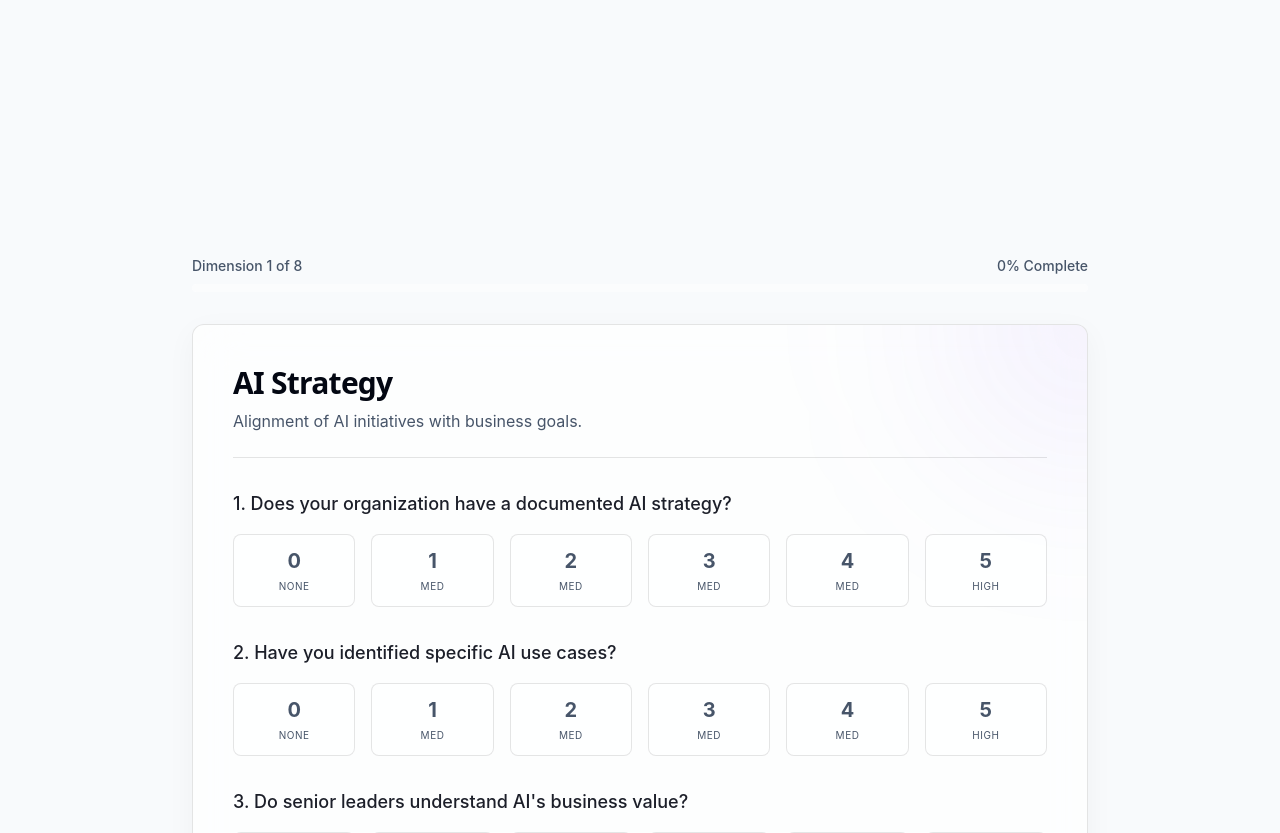
ReadinessAssessment › advances to the next dimension after answering every question and clicking "Next Dimension"
The width and height of the screenshot is (1280, 833).
What coordinates should you click on to do the following:
click the 1st button "3 Med"
I would click on:
 (709, 570)
Its box is [648,534,770,607].
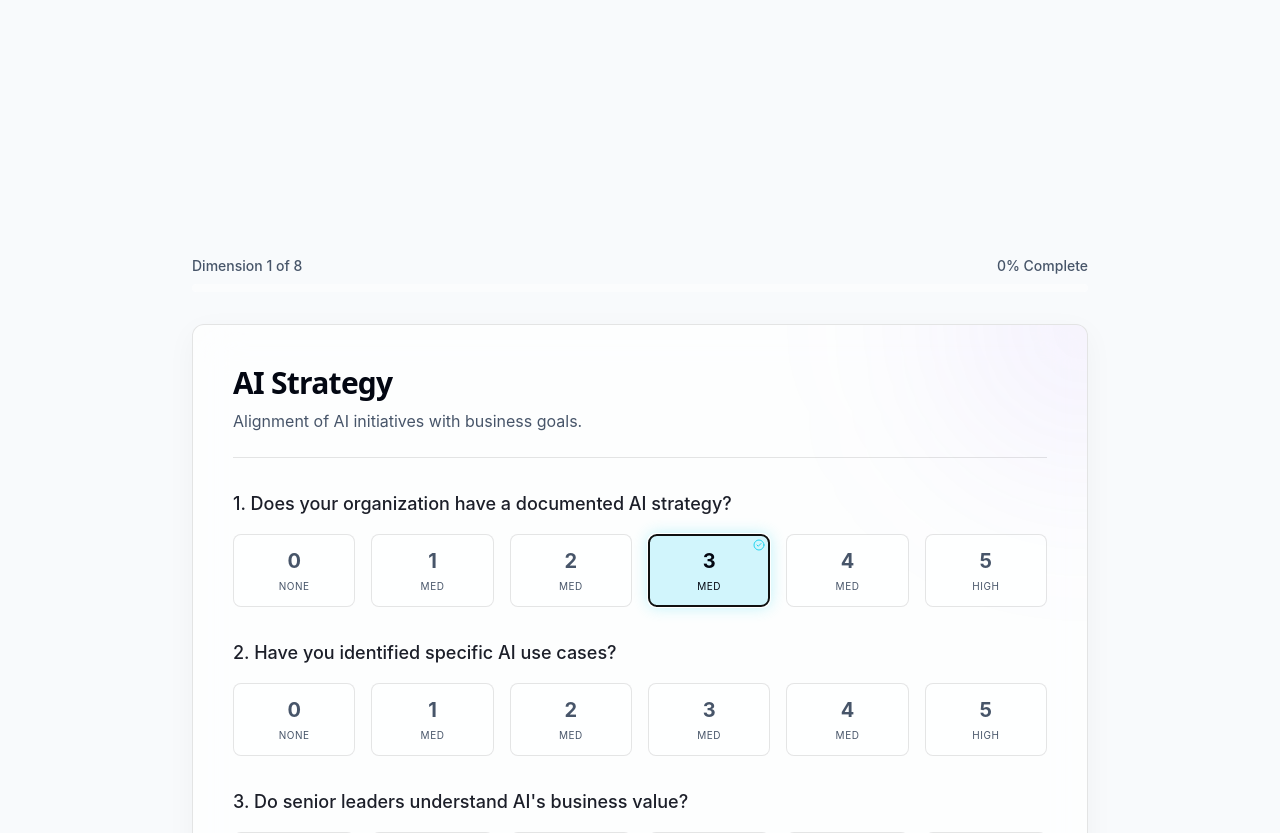
What coordinates should you click on to do the following:
click the 2nd button "3 Med"
I would click on:
 (709, 720)
Its box is [648,683,770,756].
(page scrolled)
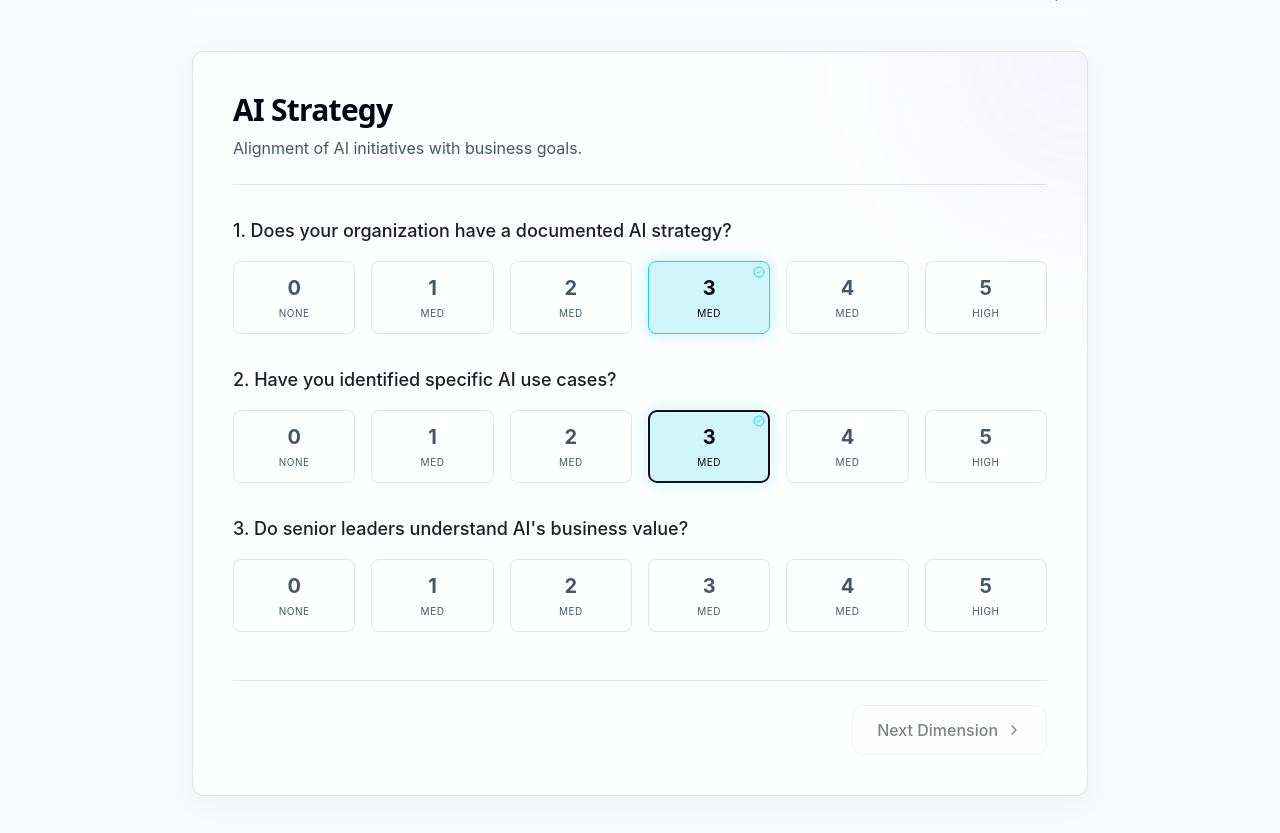
What coordinates should you click on to do the following:
click the 3rd button "3 Med"
I would click on:
 (709, 596)
Its box is [648,559,770,632].
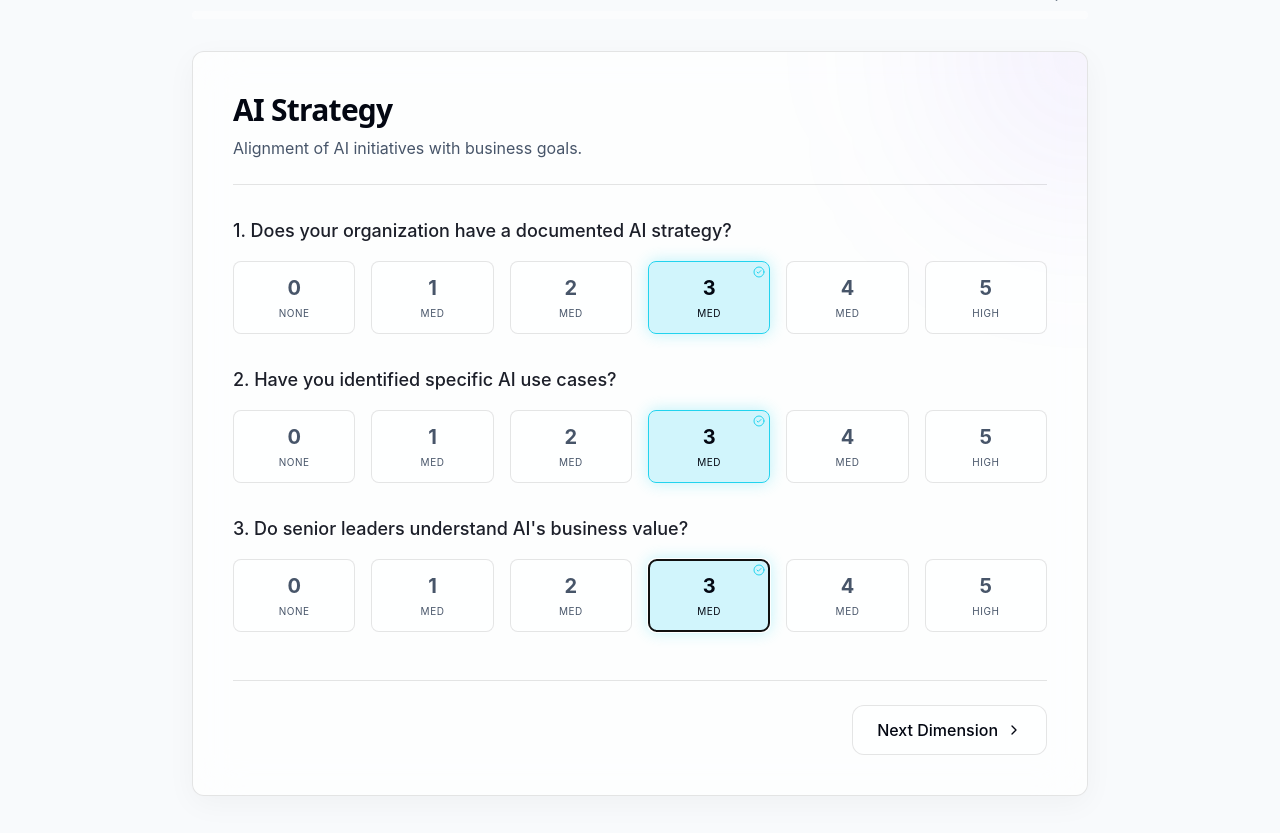
What coordinates should you click on to do the following:
click the button with test id "assessment-next-button"
I would click on:
 (950, 730)
Its box is [852,705,1047,755].
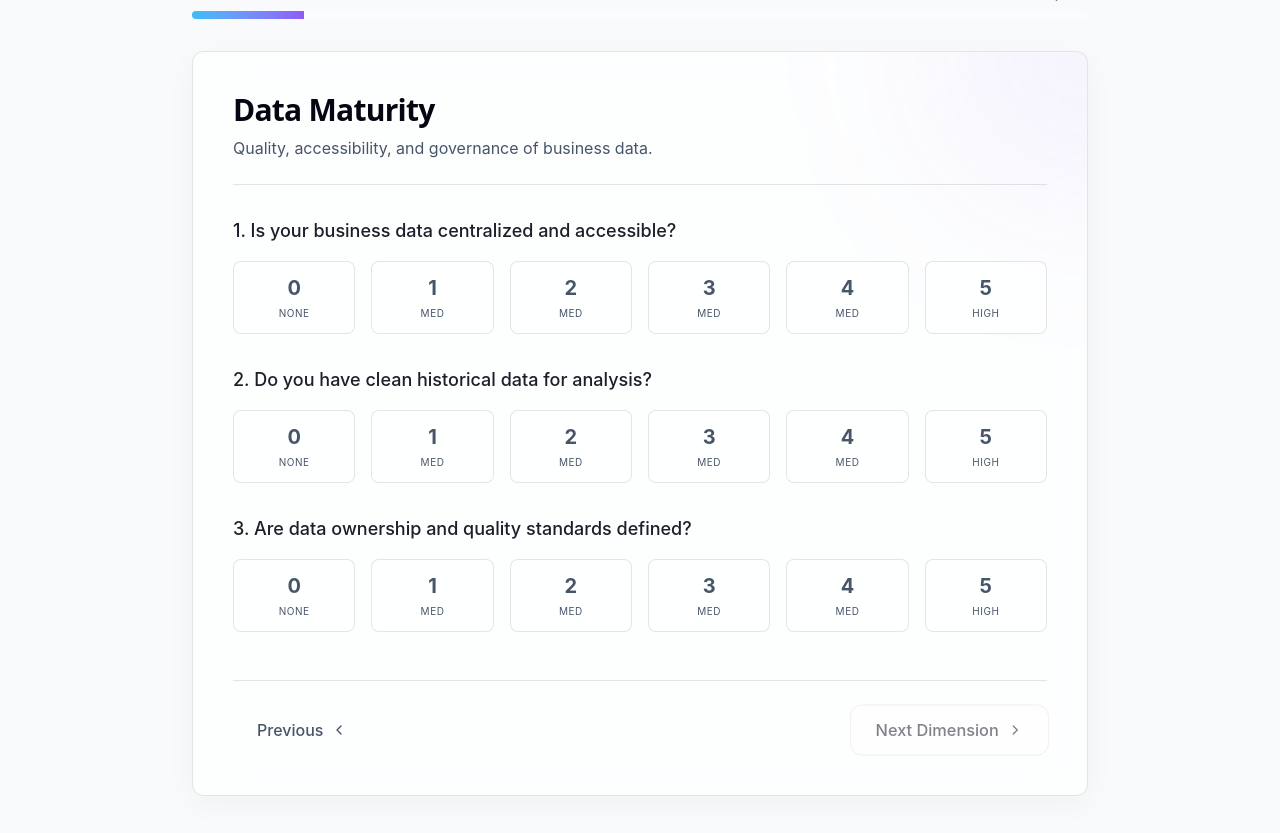
Now the heading "Data Maturity" is shown, box [233,89,434,130]
Now the heading "AI Strategy" is gone
